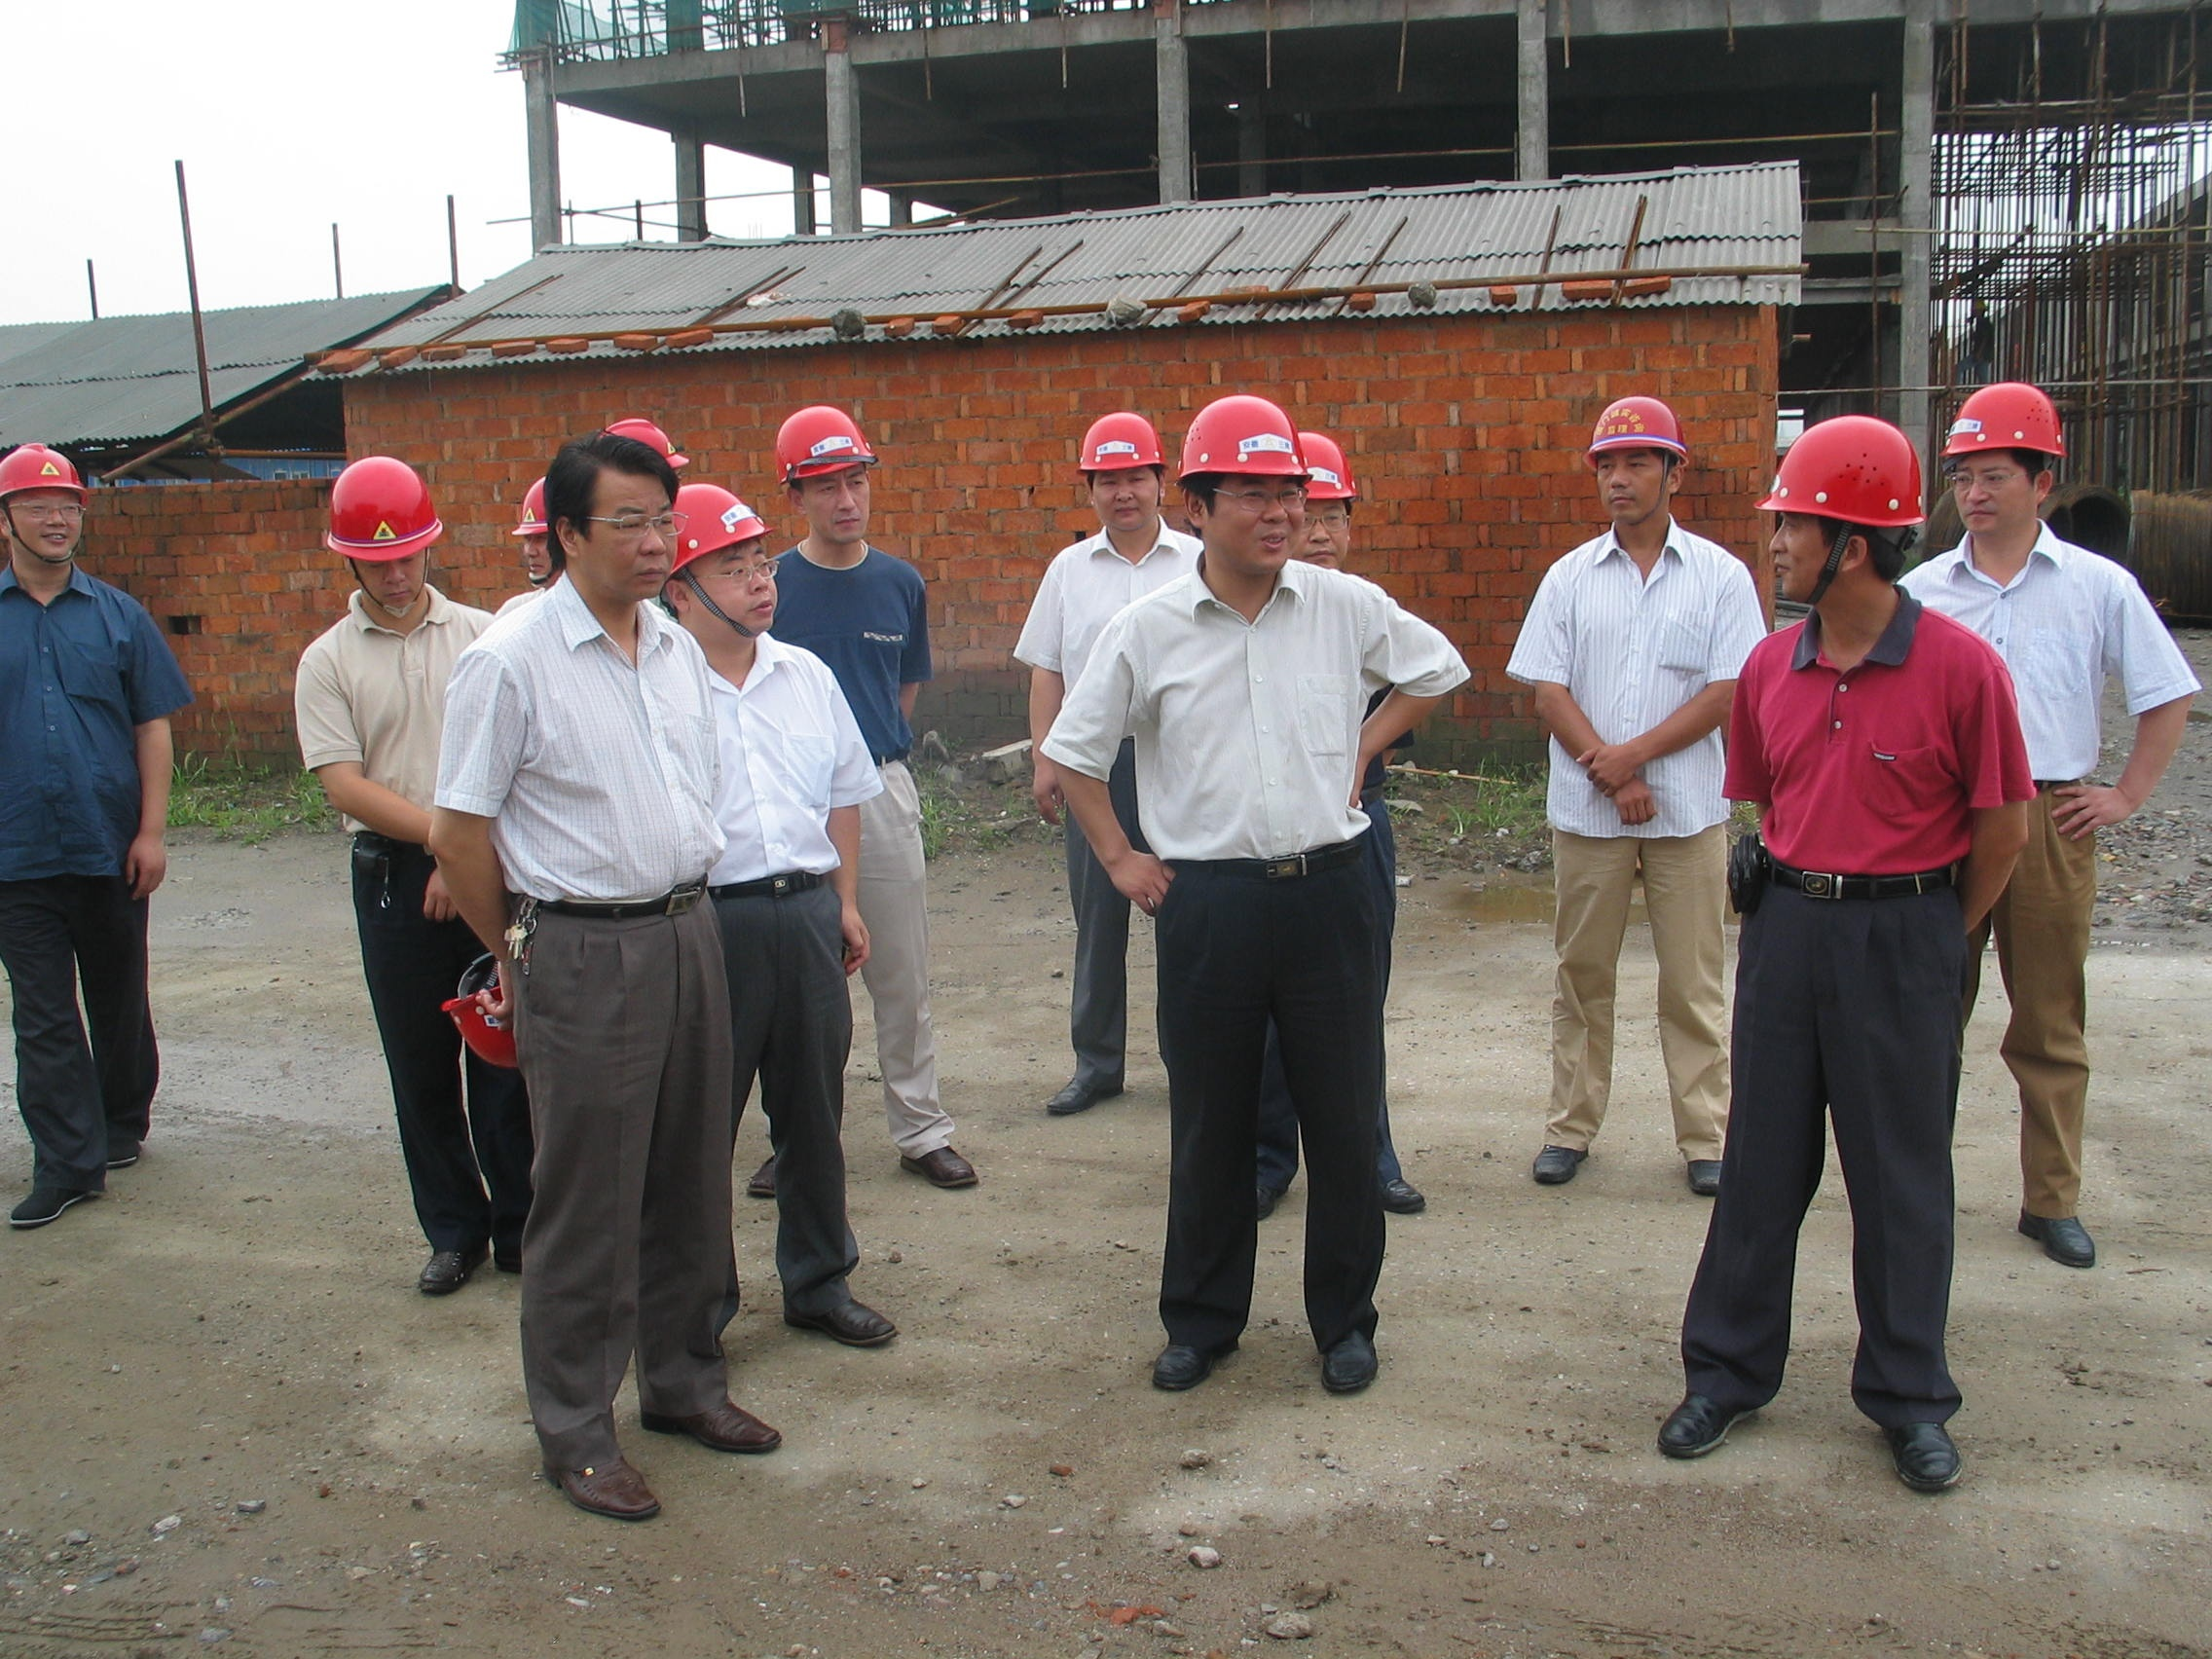none: (543, 436, 686, 603)
red: (1764, 413, 1937, 610), (1177, 397, 1306, 582), (1937, 382, 2071, 540), (320, 453, 446, 620), (662, 479, 787, 645), (765, 403, 890, 547), (1066, 404, 1170, 542), (1590, 387, 1688, 528), (1277, 422, 1364, 570), (2, 434, 94, 573), (509, 465, 557, 594)
